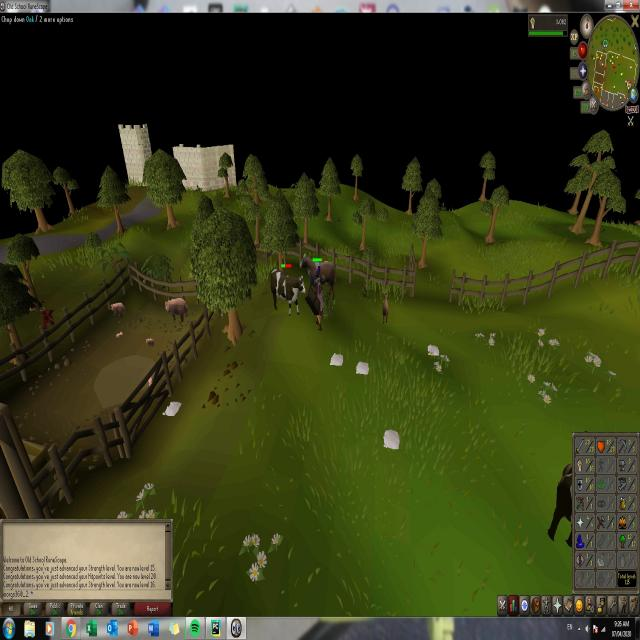cow: (548, 458, 570, 550), (268, 266, 305, 316), (300, 255, 335, 302), (381, 292, 389, 327)
player: (308, 263, 324, 331)
